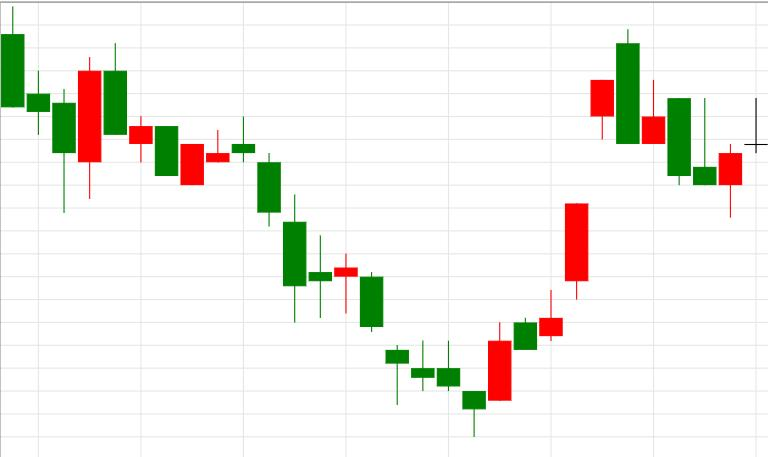bearish_engulfing_fall: (488, 29, 639, 401)
